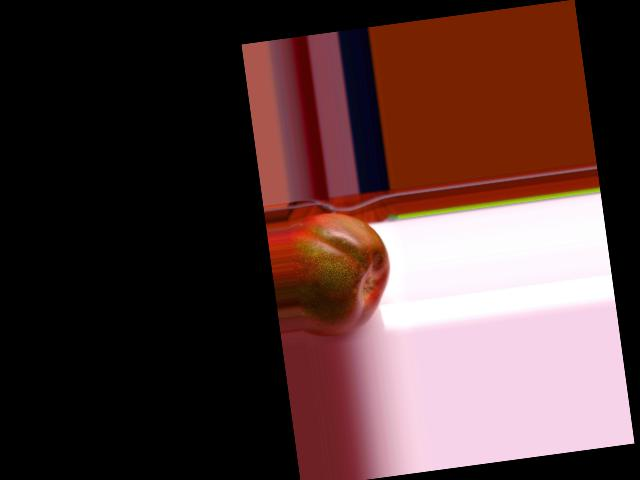tomato: (287, 205, 397, 339)
